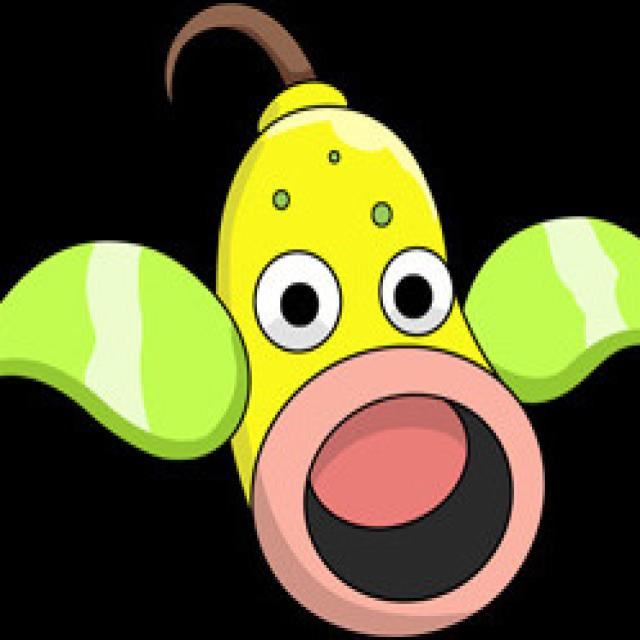Weepinbell: (192, 61, 556, 639)
